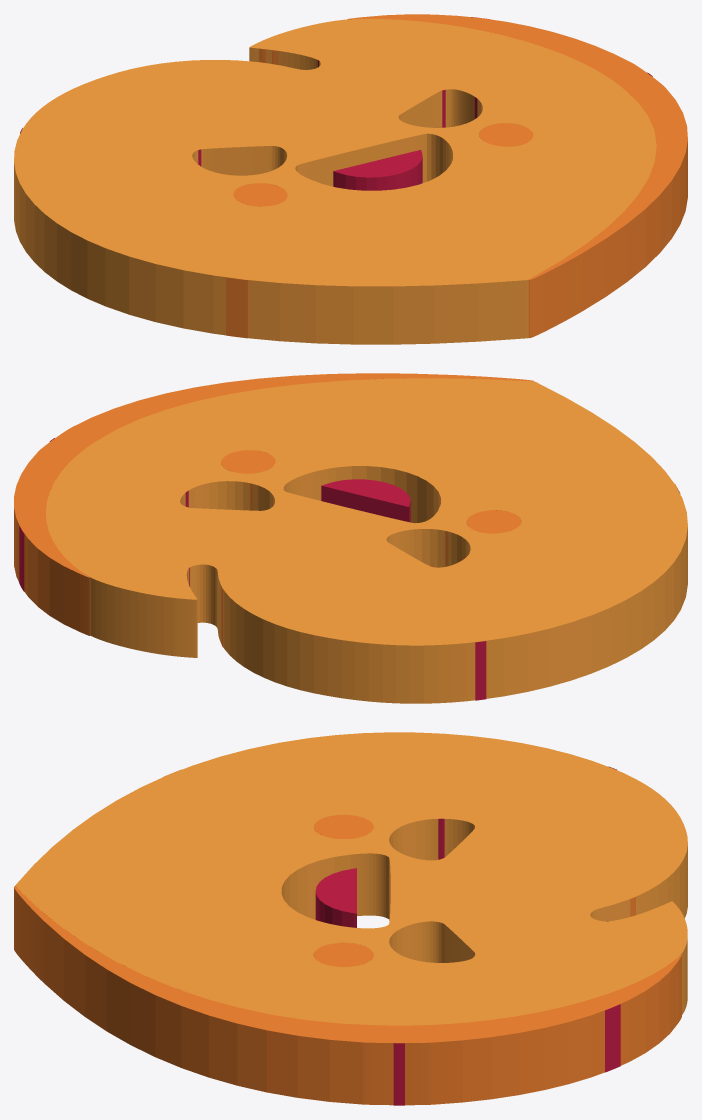
The model's file is newPeach.glb.
The picture shows the model from 3 angles, top to bottom: view 1: azimuth 30°, elevation 25°; view 2: azimuth 150°, elevation 25°; view 3: azimuth 270°, elevation 25°; orthographic projection. The views are drawn at different scales.
Visible parts, largest first — view 1: path2; view 2: path2; view 3: path2.
Part boxes in pixels (<box>): path2: <box>14,14,687,344</box>; path2: <box>14,373,687,703</box>; path2: <box>14,732,687,1105</box>.
Size of the model in its own units: 0.1421 by 0.0132 by 0.13.
